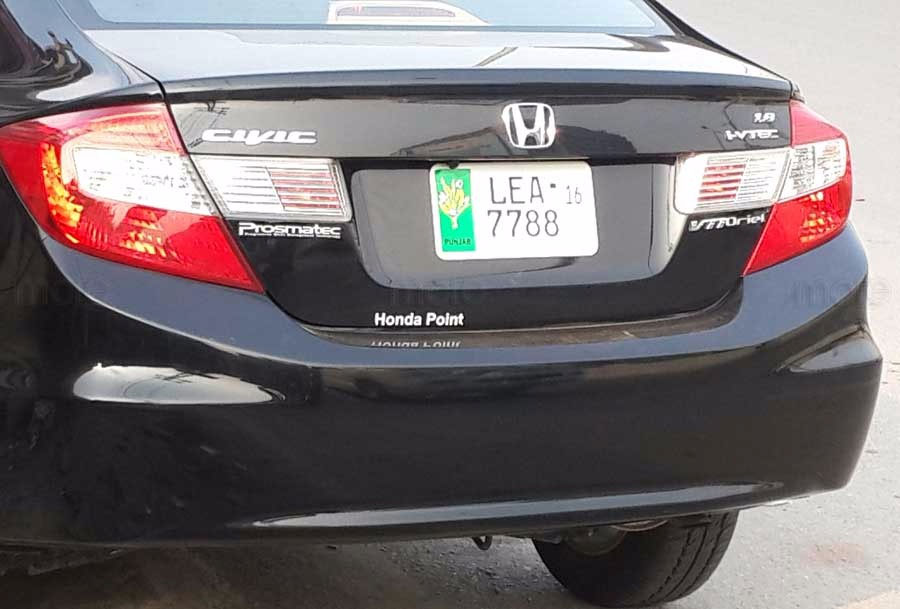Number Plate (Car): (427, 163, 600, 262)
